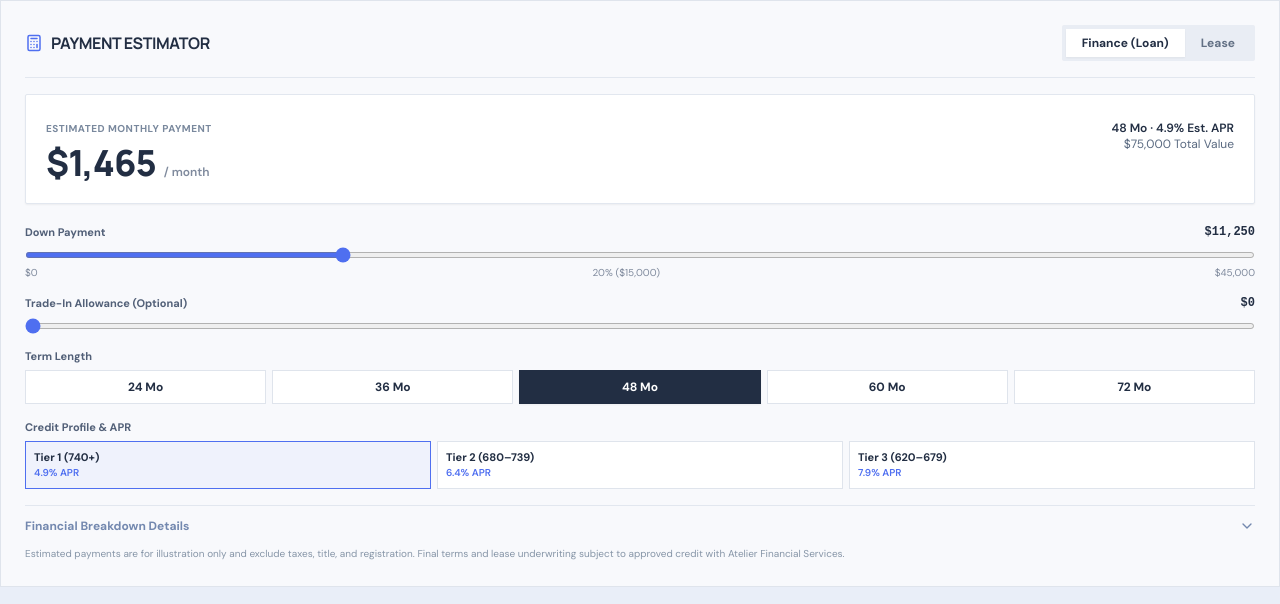
Test: PaymentCalculator Component › updates term when term buttons are clicked
The image size is (1280, 604).
Click the button "60 Mo".
click(887, 387)  # box [767,370,1008,404]
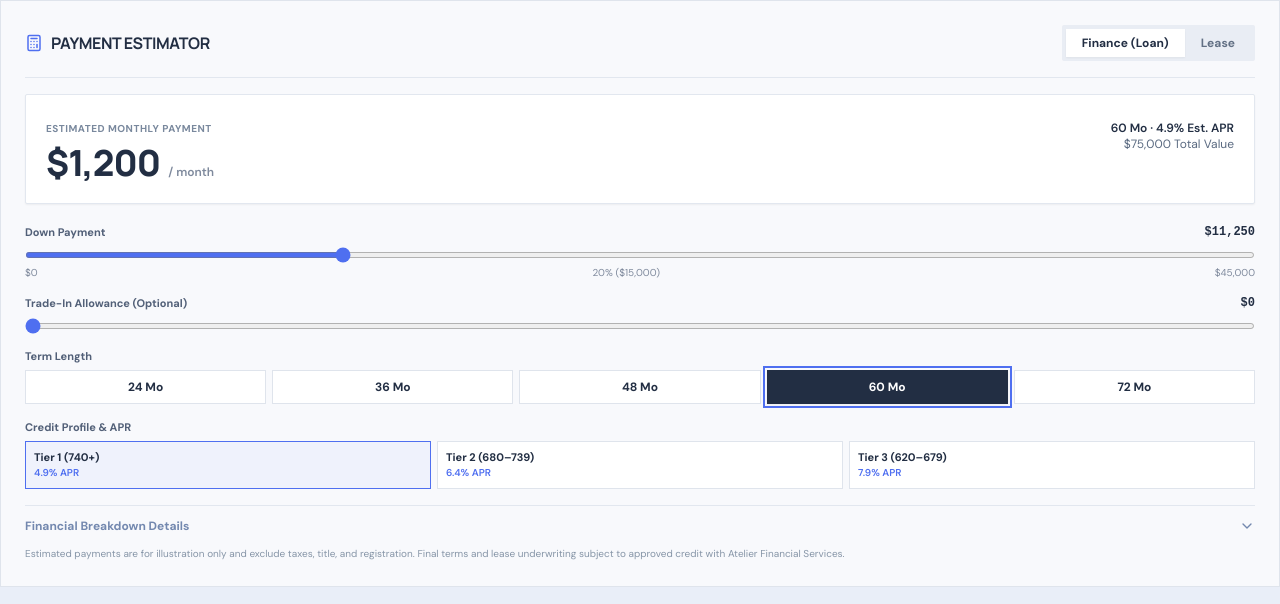
Expected: the text "60 Mo · 4.9% Est. APR" is shown, [1111,120,1234,136]
